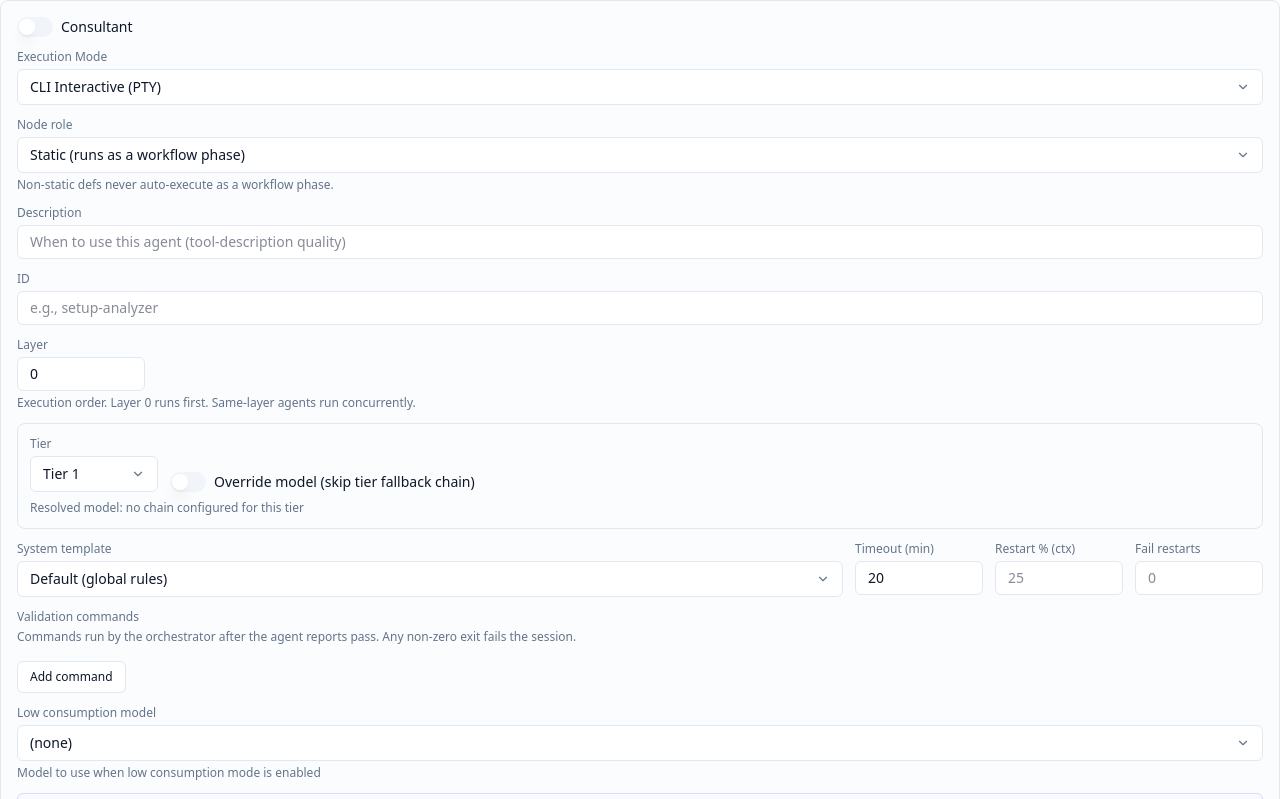
Scenario: AgentDefForm - validation_commands › adding and removing rows › adds an empty row on Add command click
Click the button "Add command": coordinates (71, 677) [17,661,126,693]
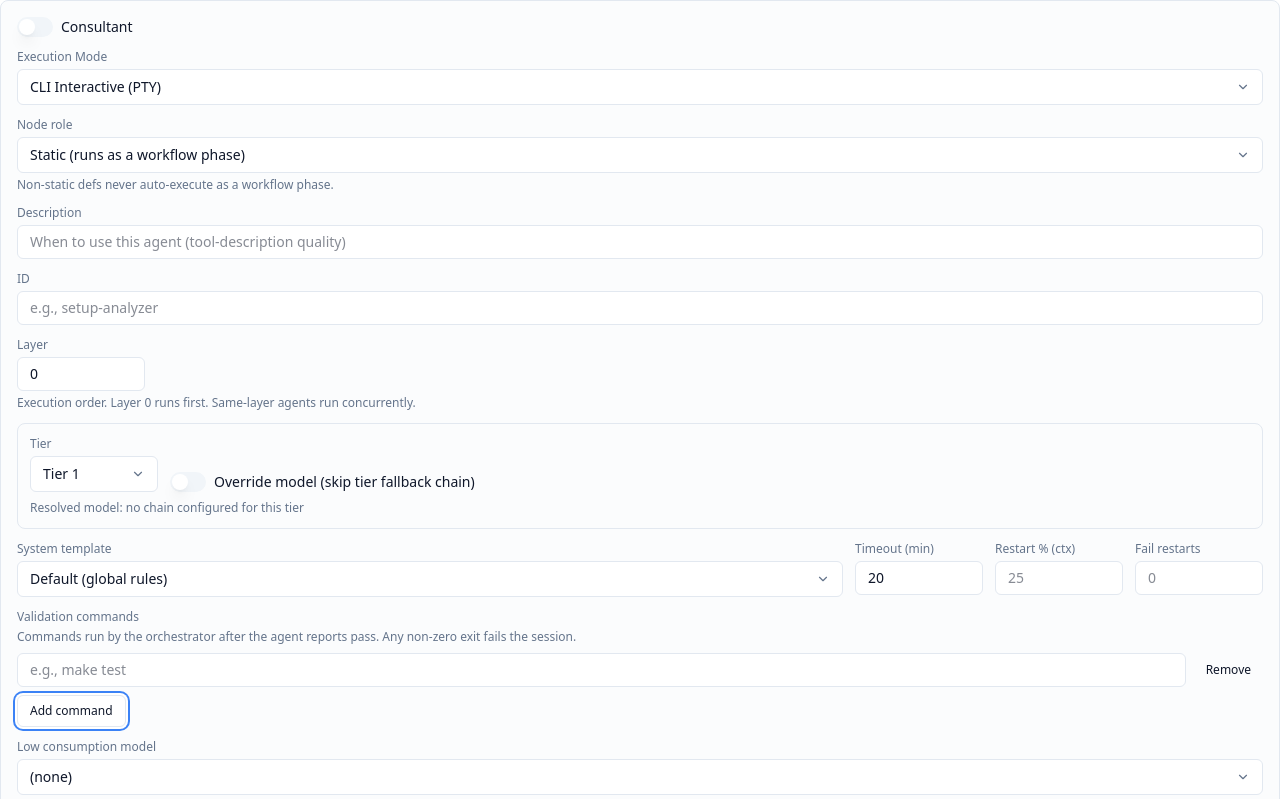
Check: the field with placeholder "e.g., make test" is shown, box [17,653,1186,687]
Check: the button "Remove" is shown, box [1194,654,1263,686]
